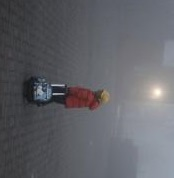person: (51, 81, 110, 111)
